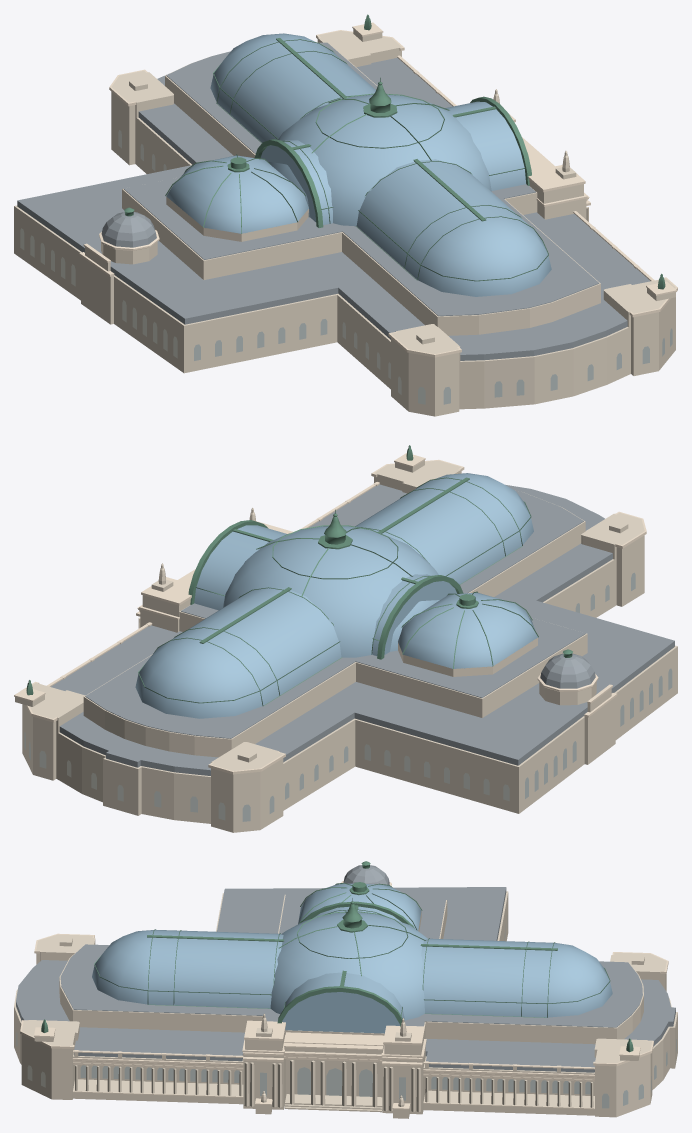
The picture shows the model from 3 angles, top to bottom: view 1: azimuth 30°, elevation 25°; view 2: azimuth 150°, elevation 25°; view 3: azimuth 270°, elevation 25°; orthographic projection. The views are drawn at different scales.
Parts seen in each view (by area): view 1: stone, glass, roof, metal, trim, window; view 2: stone, glass, roof, metal, trim, window; view 3: glass, stone, roof, trim, metal, window.
Boxes of the visible parts, x1,y1,x2,y2 form: stone: (14,29,675,416); glass: (166,33,551,296); roof: (17,42,650,360); metal: (124,14,665,289); trim: (79,22,677,357); window: (20,130,672,404); stone: (15,460,677,832); glass: (135,473,537,718); roof: (51,484,674,775); metal: (26,445,572,706); trim: (14,453,646,774); window: (24,572,672,821); glass: (92,883,612,1033); stone: (14,891,677,1118); roof: (16,865,675,1072); trim: (20,880,668,1109); metal: (41,861,633,1052); window: (16,915,676,1108).
Bounding box in the file's own units: 161 × 60 × 240.
